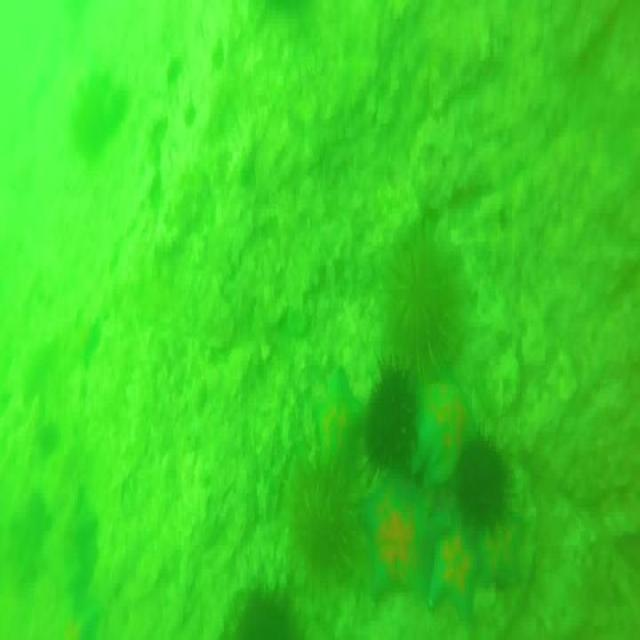echinus: (389, 220, 463, 378), (364, 356, 418, 480), (454, 439, 510, 536)
starfish: (356, 482, 455, 597), (428, 539, 476, 618)
